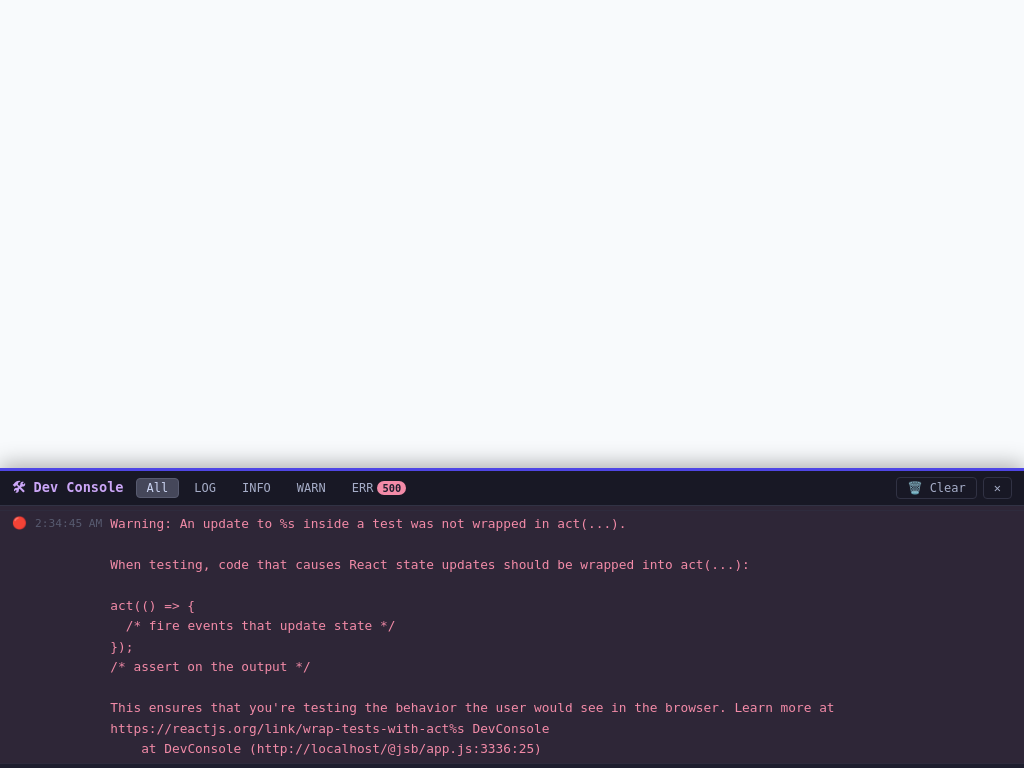
it: DevConsole › shows empty state when no matching entries for a level
The image size is (1024, 768).
(page scrolled)
What coordinates should you click on to do the following:
click the button with aria-label "Filter warn"
I would click on:
 (311, 488)
Its box is x1=286 y1=478 x2=337 y2=498.
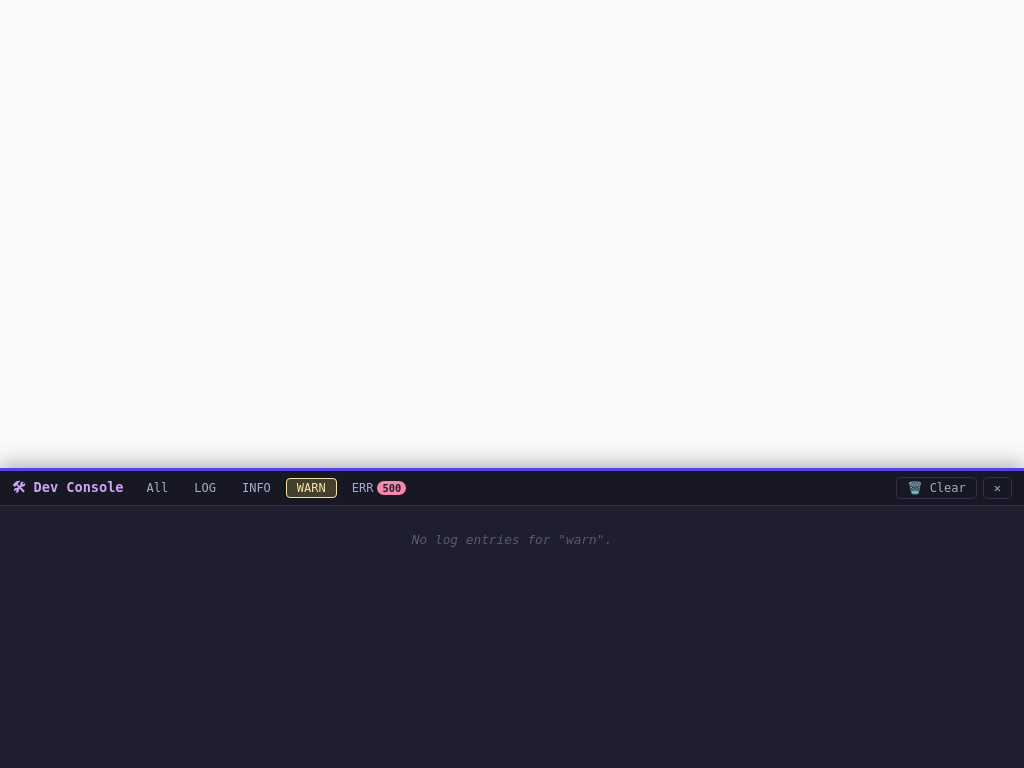
Expected: the text "No log entries for \"warn\"." is shown, x1=412 y1=532 x2=612 y2=547
